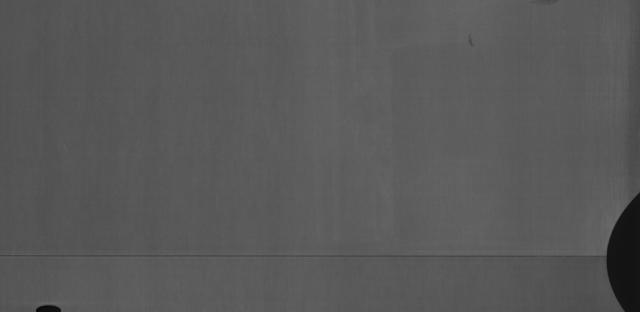crescent_gap: (594, 179, 640, 310)
punching_hole: (29, 299, 63, 312)
welding_line: (0, 243, 613, 264)
